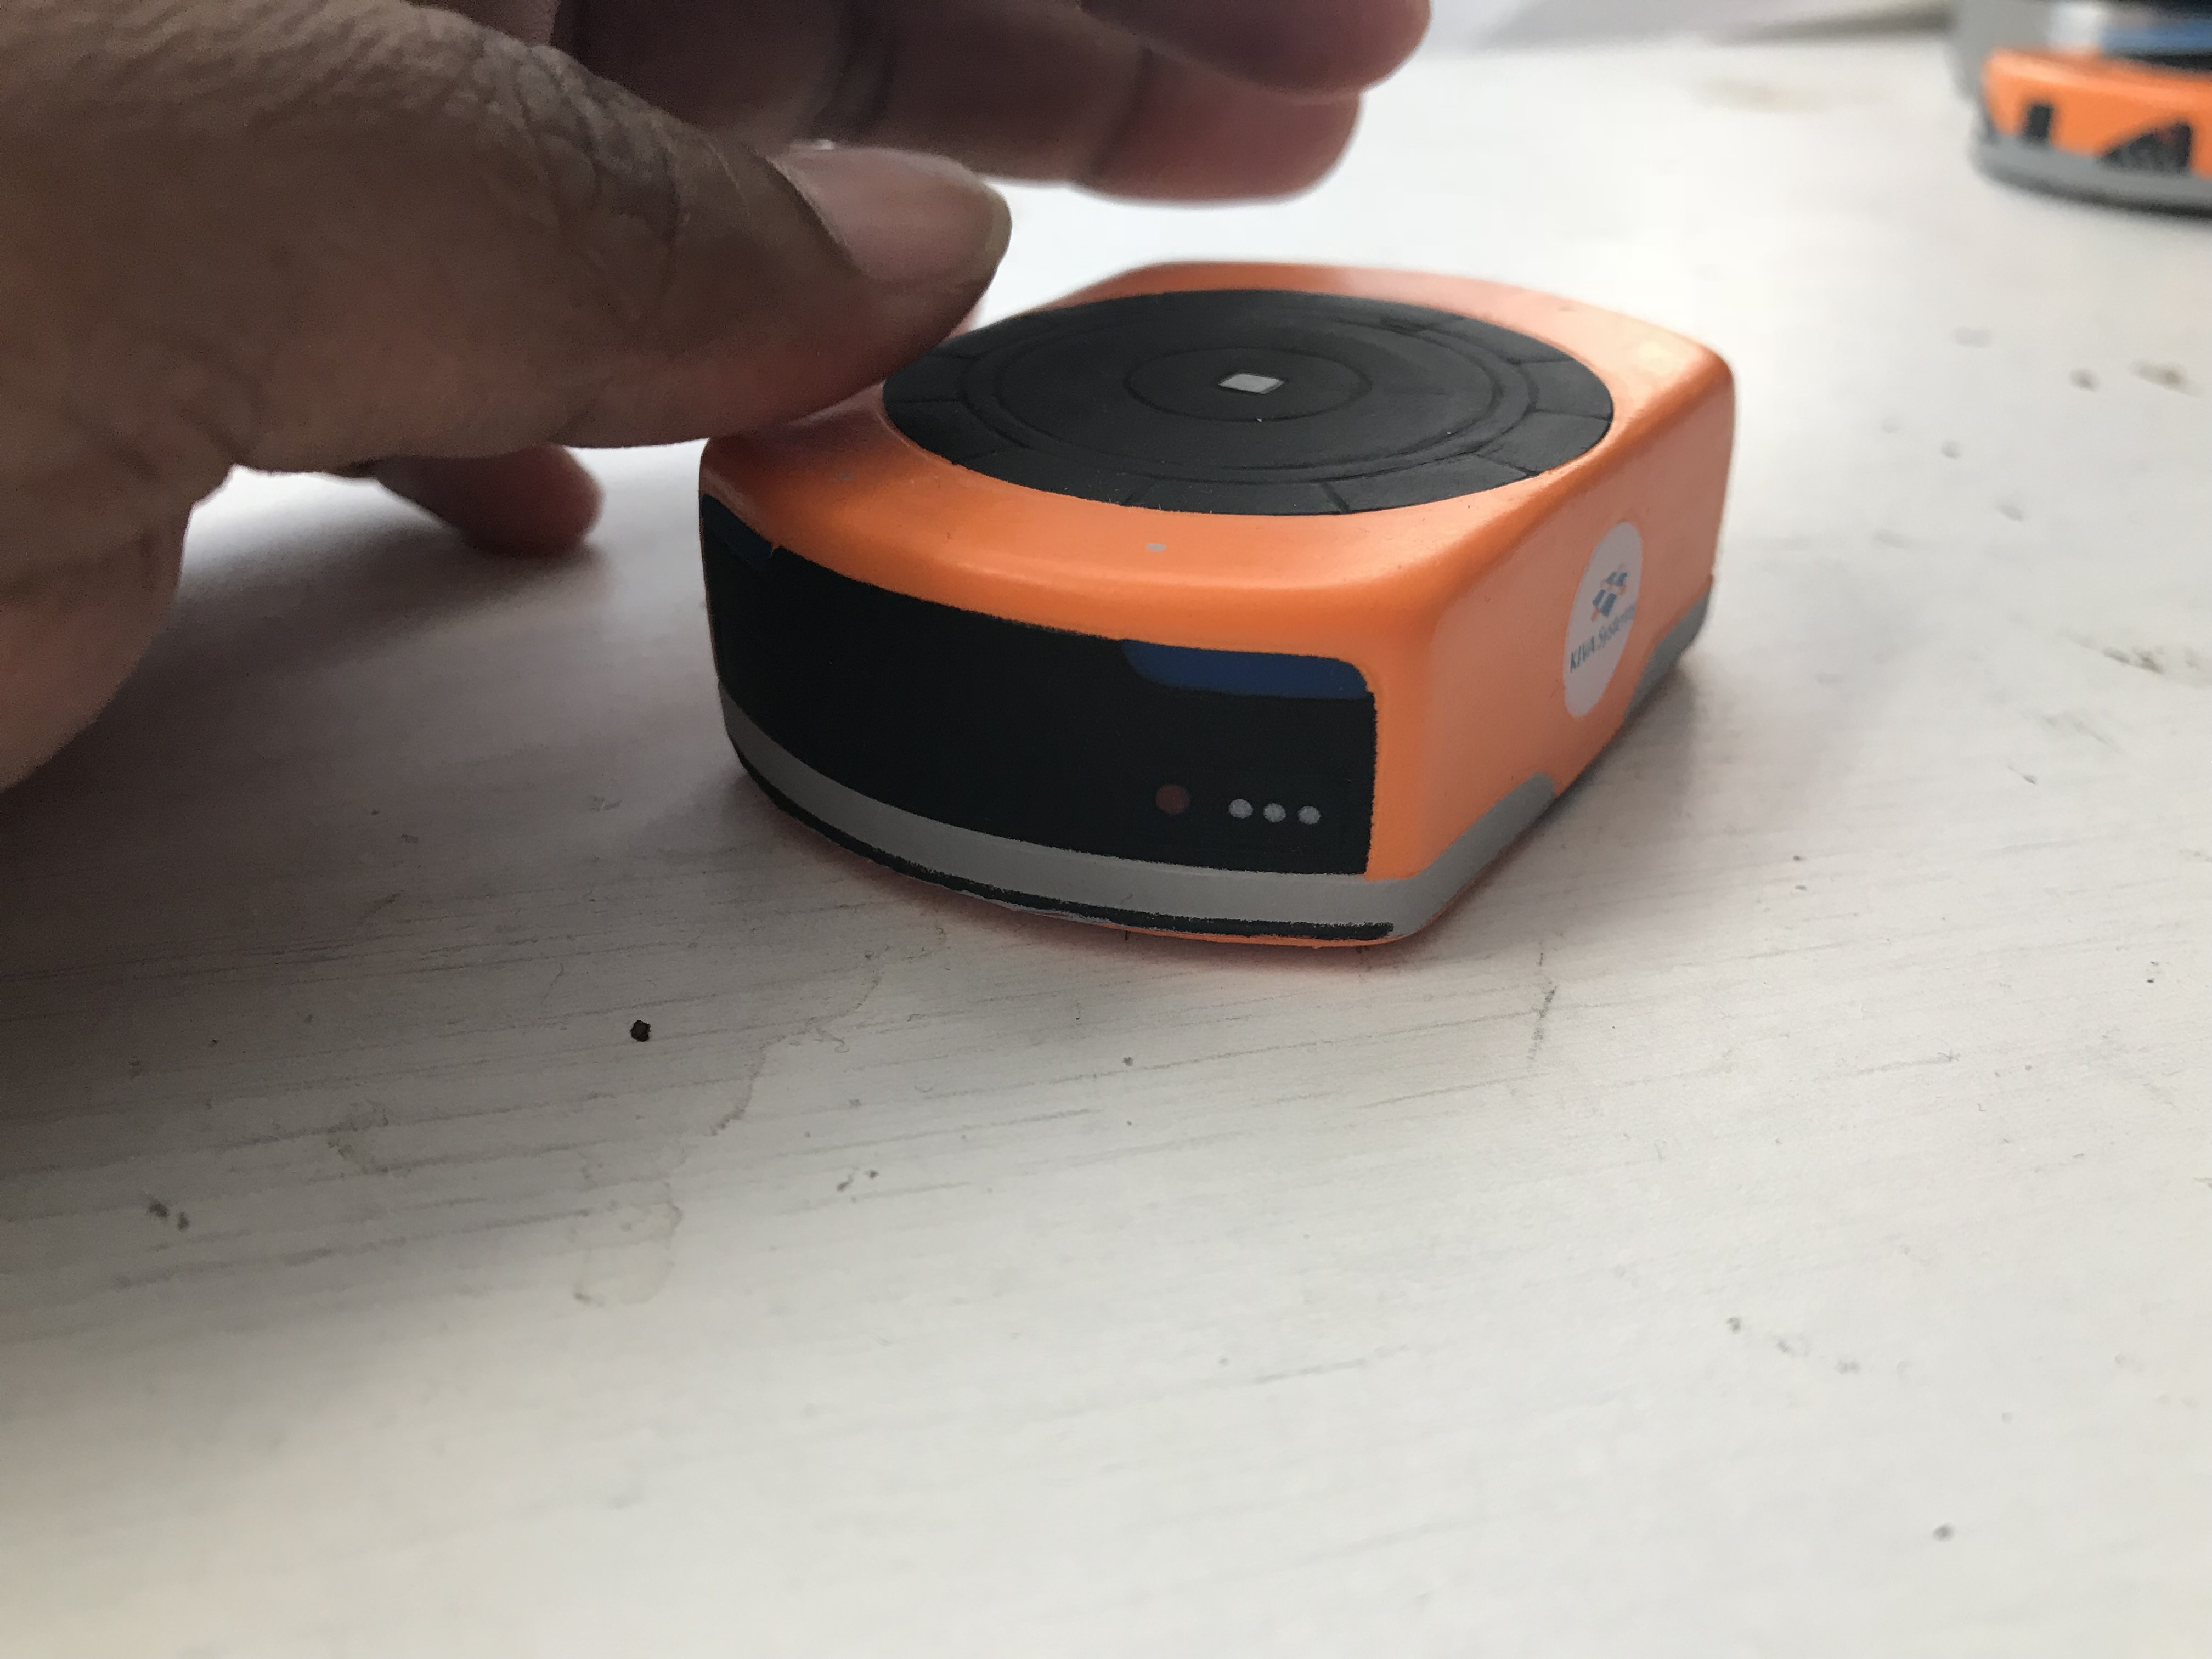amazon_bot: (683, 227, 1862, 983)
